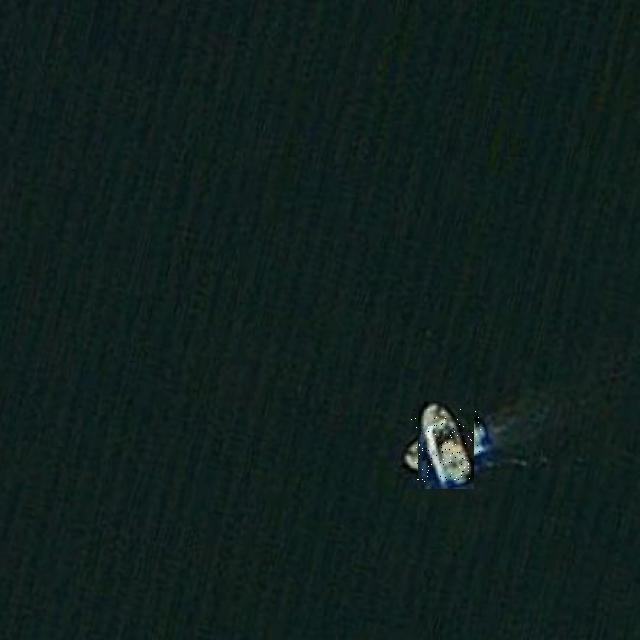boat: (410, 409, 482, 482)
